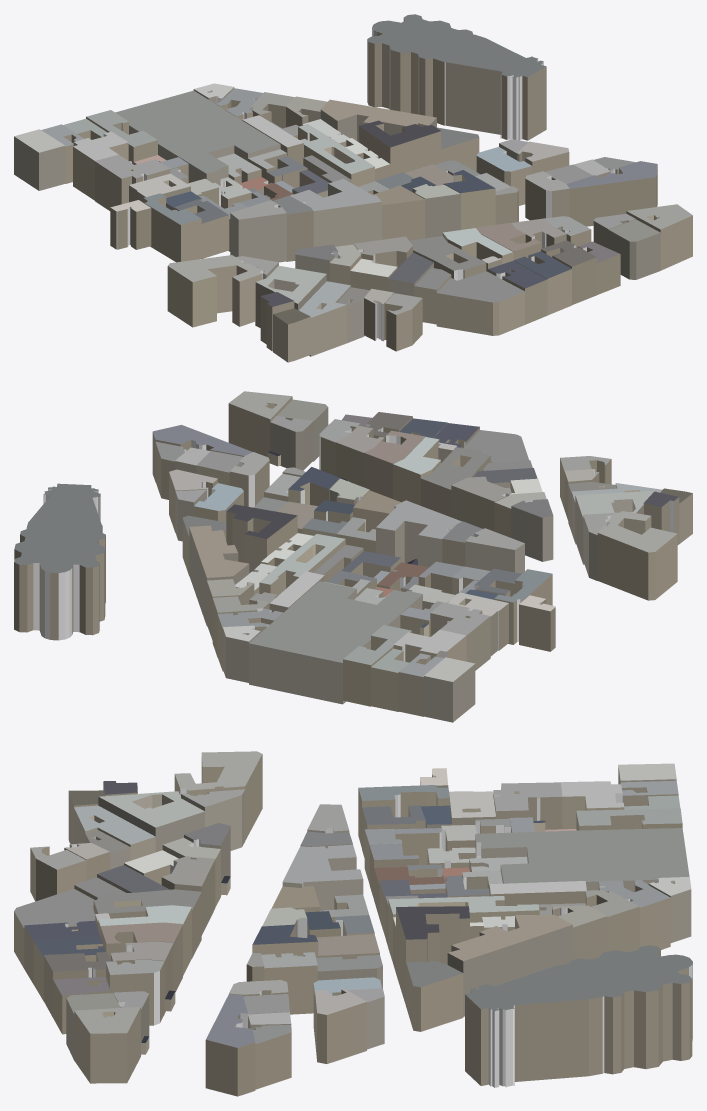
The picture shows the model from 3 angles, top to bottom: view 1: azimuth 30°, elevation 25°; view 2: azimuth 150°, elevation 25°; view 3: azimuth 270°, elevation 25°; orthographic projection. The views are drawn at different scales.
Visible parts, largest first — view 1: tuile; view 2: tuile; view 3: tuile.
Part boxes in pixels (x1,y1,x2,y2): tuile: (14,14,692,362); tuile: (14,391,692,722); tuile: (14,751,692,1096).
Size of the model in its own units: 253 by 34.85 by 255.
